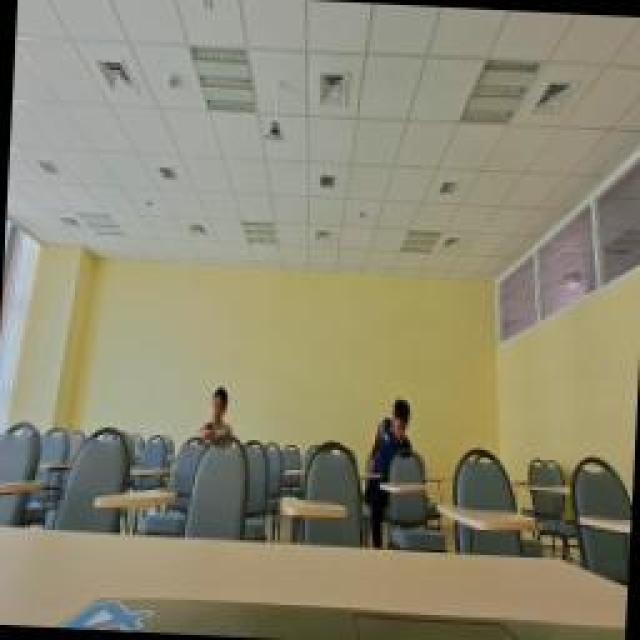phone: (192, 385, 232, 453)
